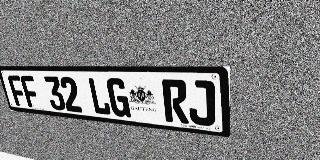2: (59, 77, 82, 113)
3: (44, 76, 66, 111)
F: (19, 75, 41, 108), (7, 75, 28, 107)
G: (106, 78, 131, 118)
J: (187, 80, 215, 127)
L: (87, 77, 112, 116)
R: (162, 79, 189, 124)
